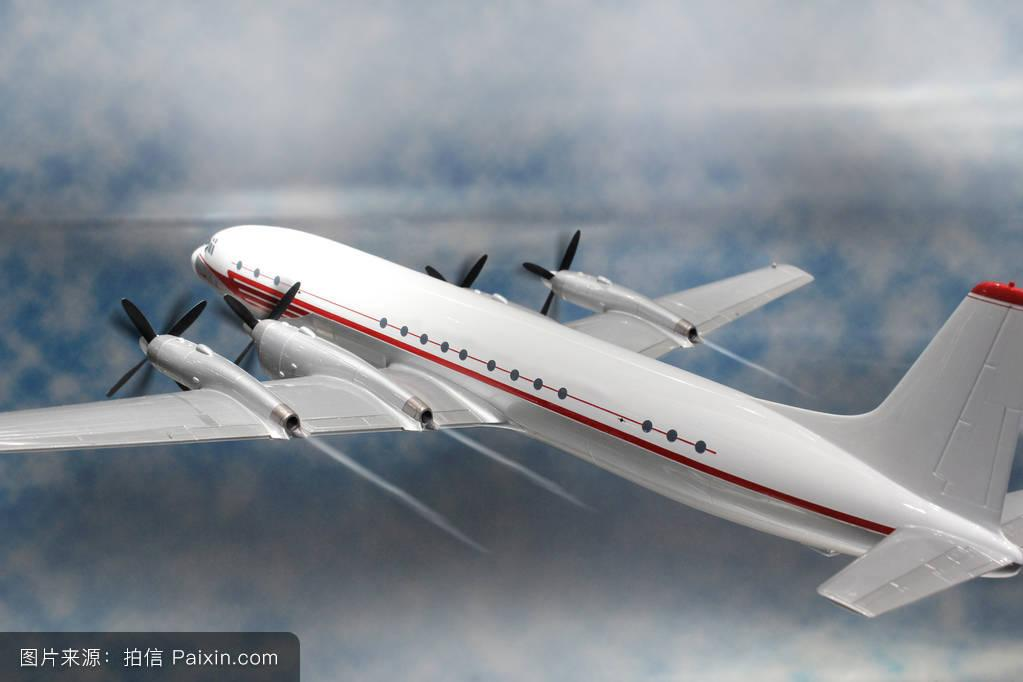airplane: (1, 219, 1023, 618)
